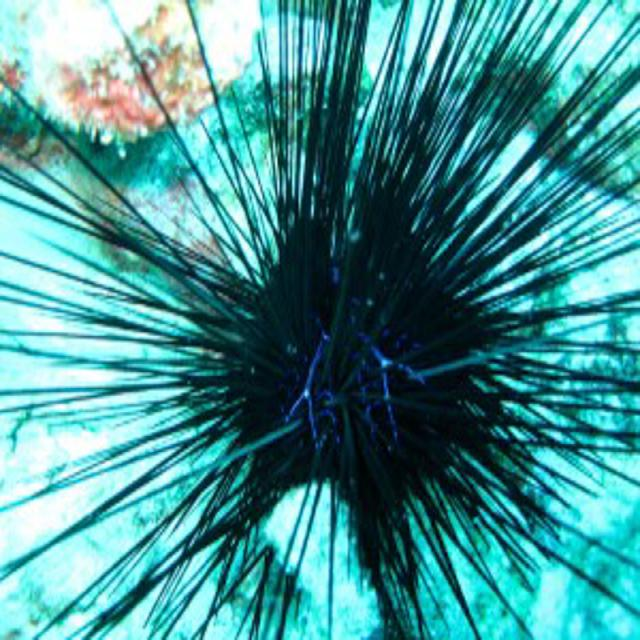Urchin: (1, 11, 639, 610)
